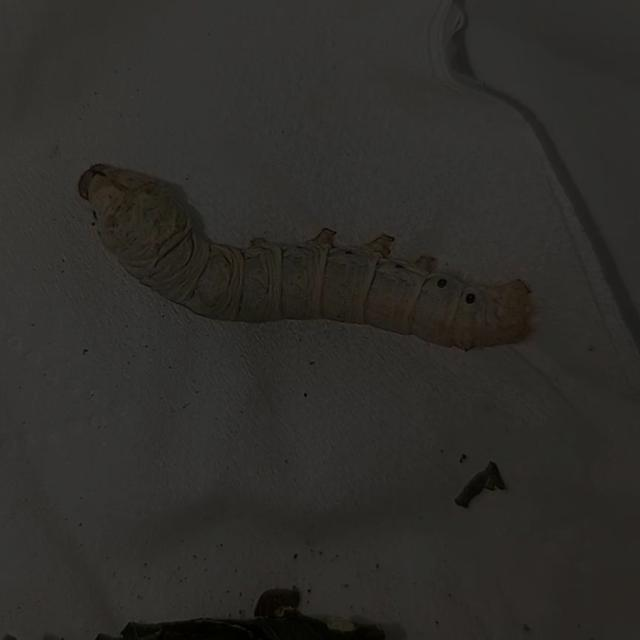Healthy: (70, 157, 538, 358)
